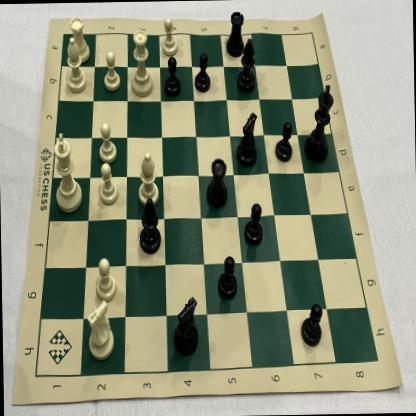bishop: (136, 195, 164, 257), (134, 146, 160, 208), (62, 34, 88, 96), (235, 33, 258, 96)
king: (48, 128, 84, 216), (302, 80, 336, 166)
knight: (169, 292, 204, 360), (83, 296, 116, 364), (235, 109, 260, 171)
pawn: (295, 297, 325, 351), (214, 250, 241, 302), (90, 254, 118, 304), (95, 160, 121, 208), (242, 199, 266, 248), (160, 53, 184, 99), (156, 14, 180, 58), (272, 118, 294, 164), (95, 120, 117, 166), (100, 50, 122, 94), (192, 50, 212, 96)
queen: (128, 25, 154, 100)
rook: (202, 153, 230, 211), (68, 12, 94, 64), (224, 8, 246, 61)
